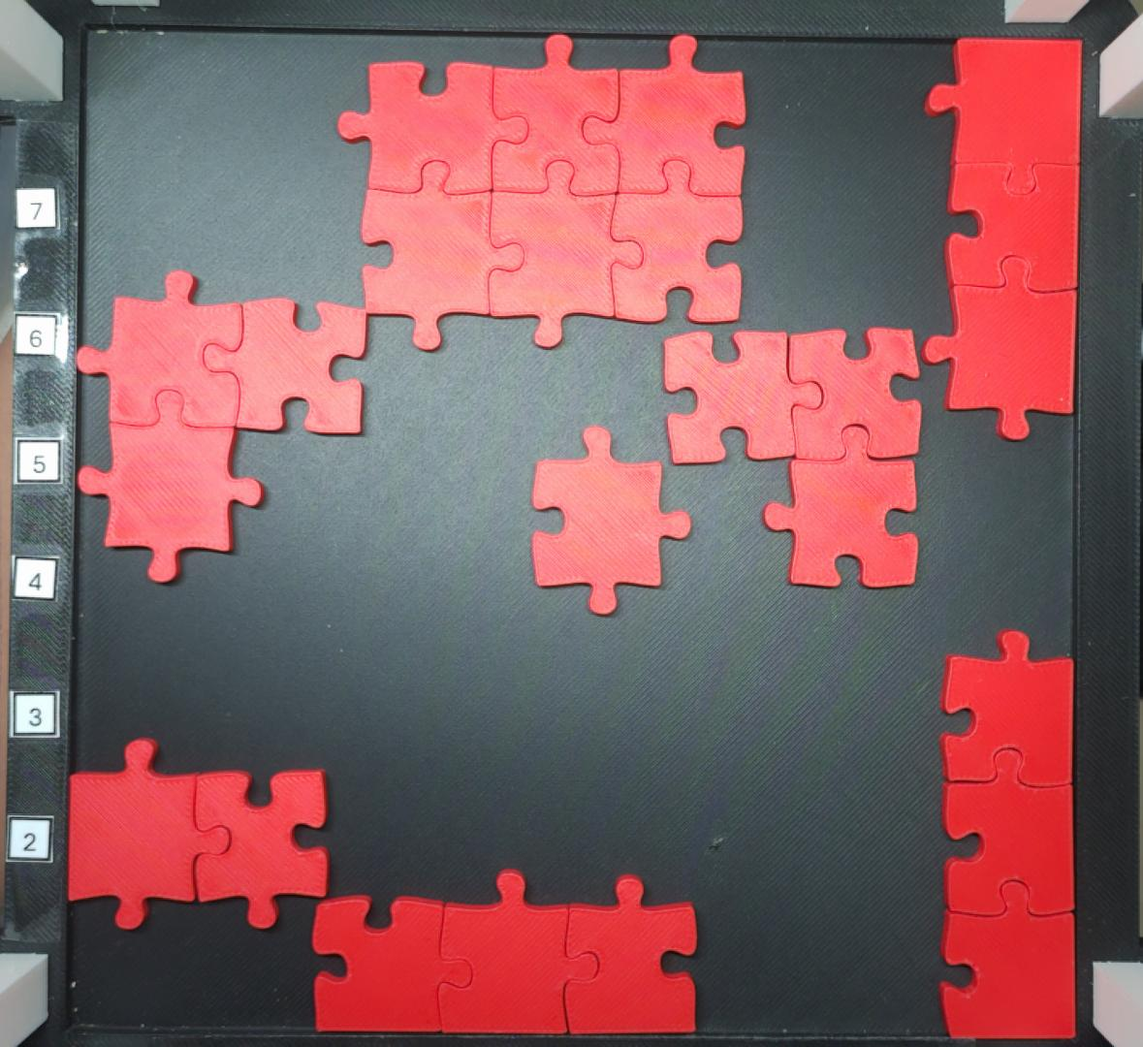p_1: (529, 423, 694, 619)
p_2: (66, 735, 331, 933)
p_3: (75, 269, 370, 586), (660, 327, 924, 590), (919, 34, 1085, 443), (310, 867, 700, 1036), (938, 627, 1079, 1041)
p_m: (334, 29, 749, 352)
